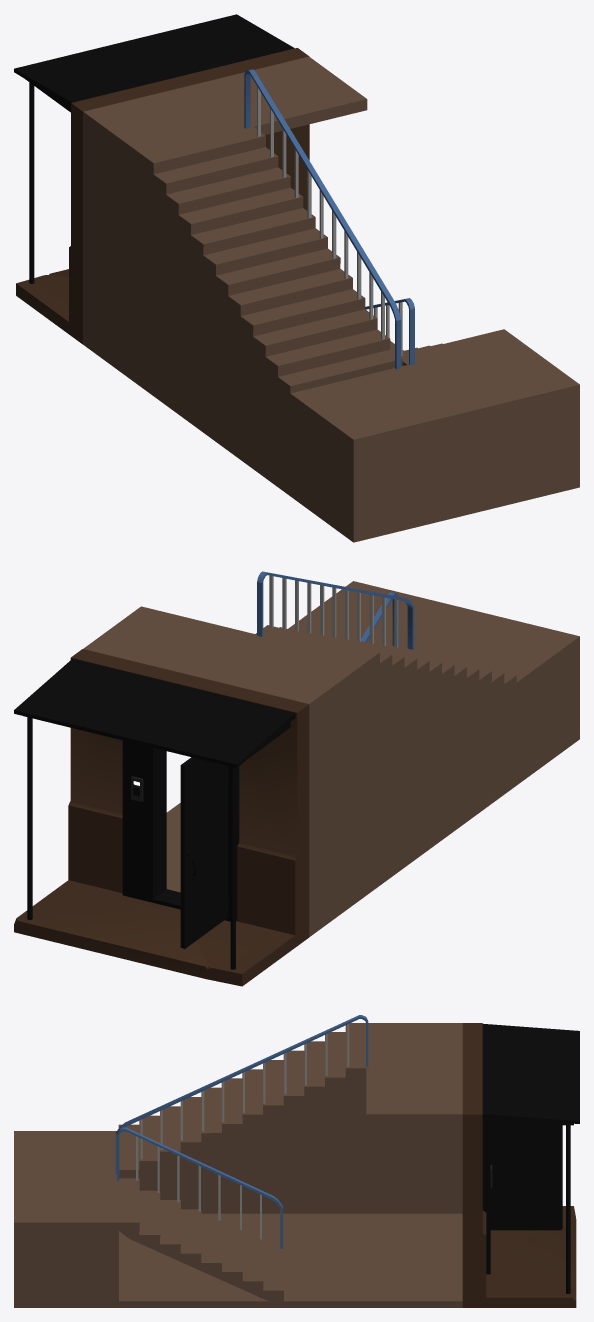
3 renders of one model, top to bottom at view 1: azimuth 30°, elevation 25°; view 2: azimuth 150°, elevation 25°; view 3: azimuth 270°, elevation 25°, orthographic. The views are drawn at different scales.
Visible parts, largest first — view 1: Hub_1st_floor_entrance_004; view 2: Hub_1st_floor_entrance_004, HUB_1stfloor_entr_door_004; view 3: Hub_1st_floor_entrance_004, HUB_1stfloor_entr_door_004.
Boxes of the visible parts, x1,y1,x2,y2 form: Hub_1st_floor_entrance_004: (14,14,579,542); Hub_1st_floor_entrance_004: (14,571,579,986); HUB_1stfloor_entr_door_004: (180,757,228,949); Hub_1st_floor_entrance_004: (14,1015,579,1307); HUB_1stfloor_entr_door_004: (490,1125,562,1230).
Size of the model in its own units: 285 by 352 by 743.
